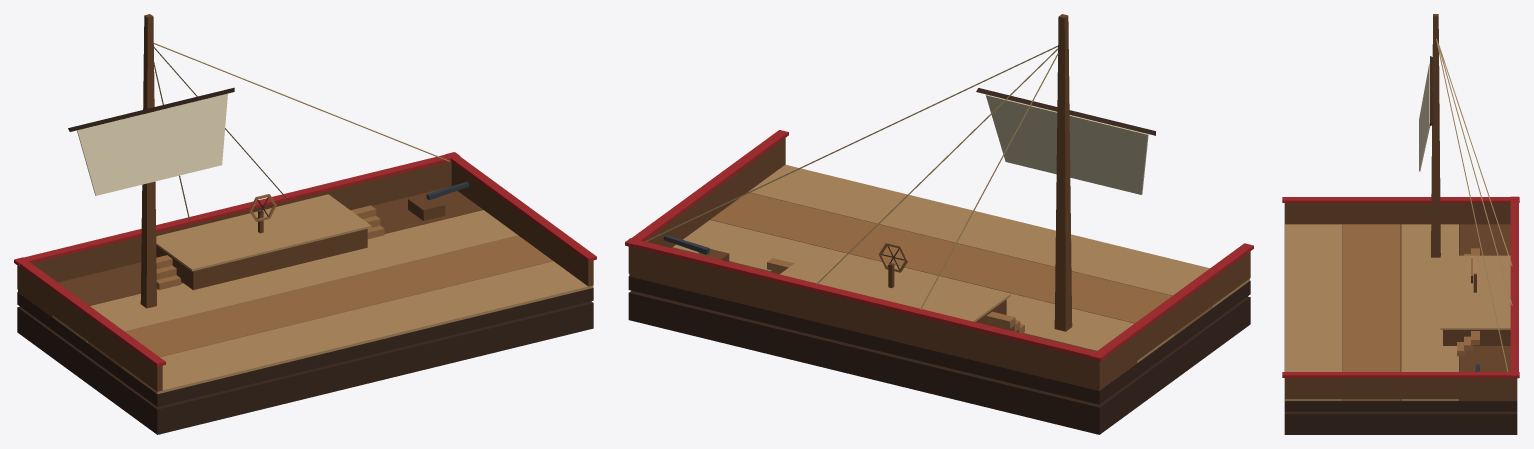
The model's file is SM_Env_GaleQuarterdeck_LQ.glb.
3 renders of one model, left to right at view 1: azimuth 30°, elevation 25°; view 2: azimuth 150°, elevation 25°; view 3: azimuth 270°, elevation 25°, orthographic. The views are drawn at different scales.
Visible parts, largest first — view 1: SM_Env_GaleQuarterdeck_LQ; view 2: SM_Env_GaleQuarterdeck_LQ; view 3: SM_Env_GaleQuarterdeck_LQ.
Boxes of the visible parts, x1=… form: SM_Env_GaleQuarterdeck_LQ: x1=14, y1=14, x2=596, y2=434; SM_Env_GaleQuarterdeck_LQ: x1=625, y1=14, x2=1253, y2=434; SM_Env_GaleQuarterdeck_LQ: x1=1282, y1=14, x2=1519, y2=434.
Bounding box in the file's own units: 18.2 × 13.1 × 10.2.
1 material, 1 textured.
